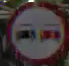No overtake: (6, 0, 65, 65)
